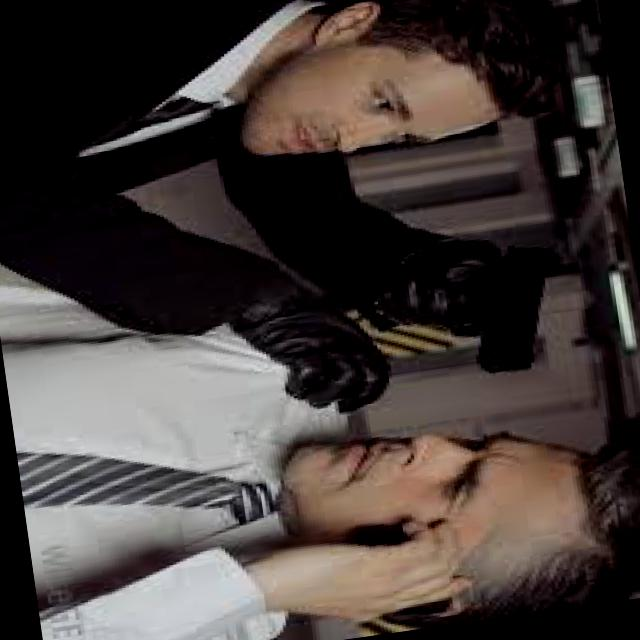handgun: (372, 232, 592, 396)
